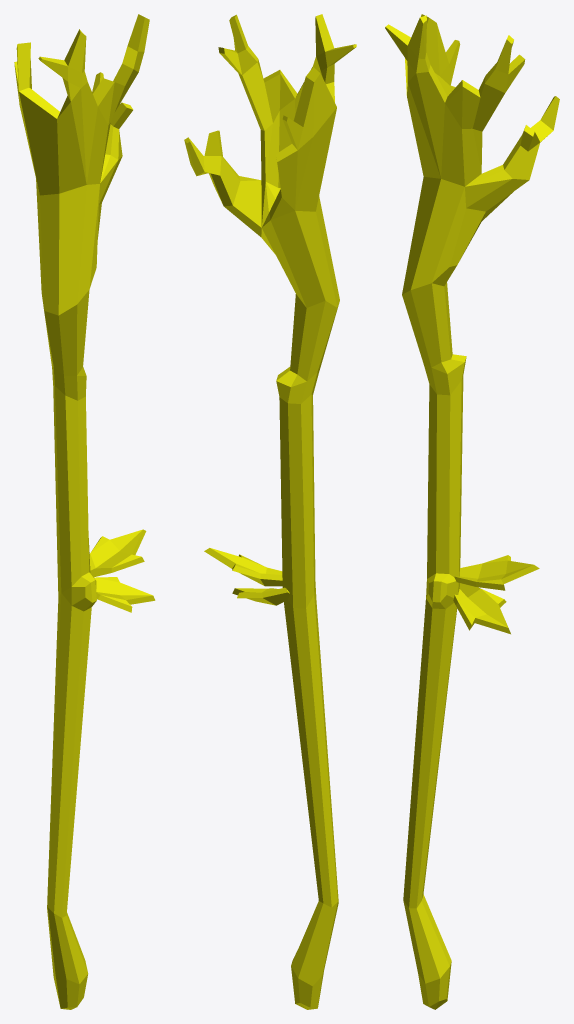
File: SM_Wep_ForestGuardian_01.glb
The picture shows the model from 3 angles, left to right: view 1: azimuth 30°, elevation 25°; view 2: azimuth 150°, elevation 25°; view 3: azimuth 330°, elevation 25°; orthographic projection.
Visible parts, largest first — view 1: SM_Wep_ForestGuardian_01; view 2: SM_Wep_ForestGuardian_01; view 3: SM_Wep_ForestGuardian_01.
Boxes of the visible parts, <box> form: SM_Wep_ForestGuardian_01: <box>14,14,155,1009</box>; SM_Wep_ForestGuardian_01: <box>184,14,356,1009</box>; SM_Wep_ForestGuardian_01: <box>385,14,559,1009</box>.
Bounding box in the file's own units: 0.2875 × 2.08 × 0.2352.
